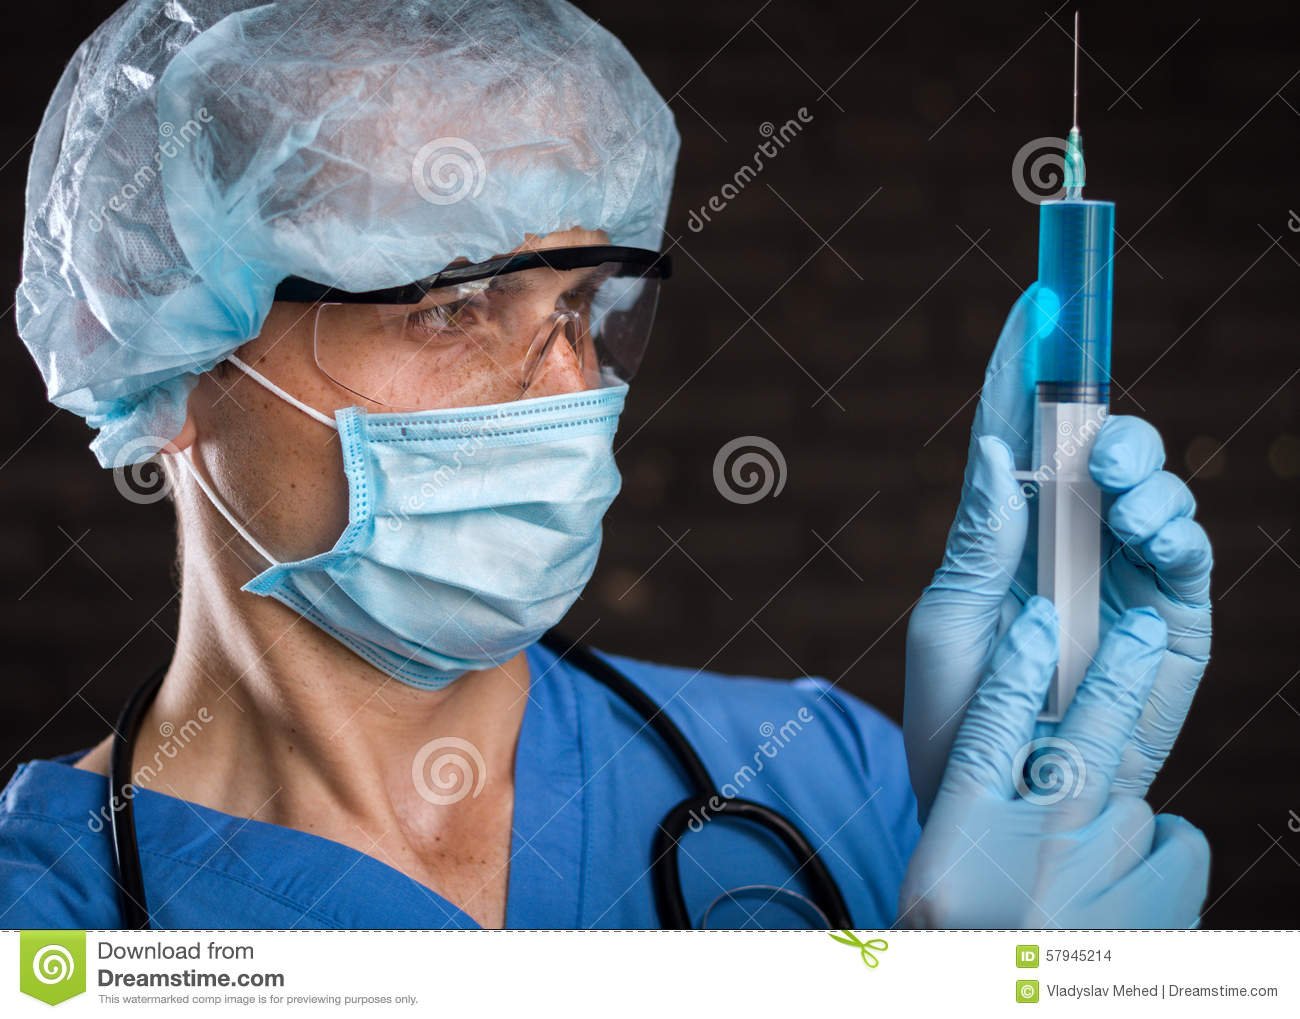mask: (244, 400, 628, 690)
